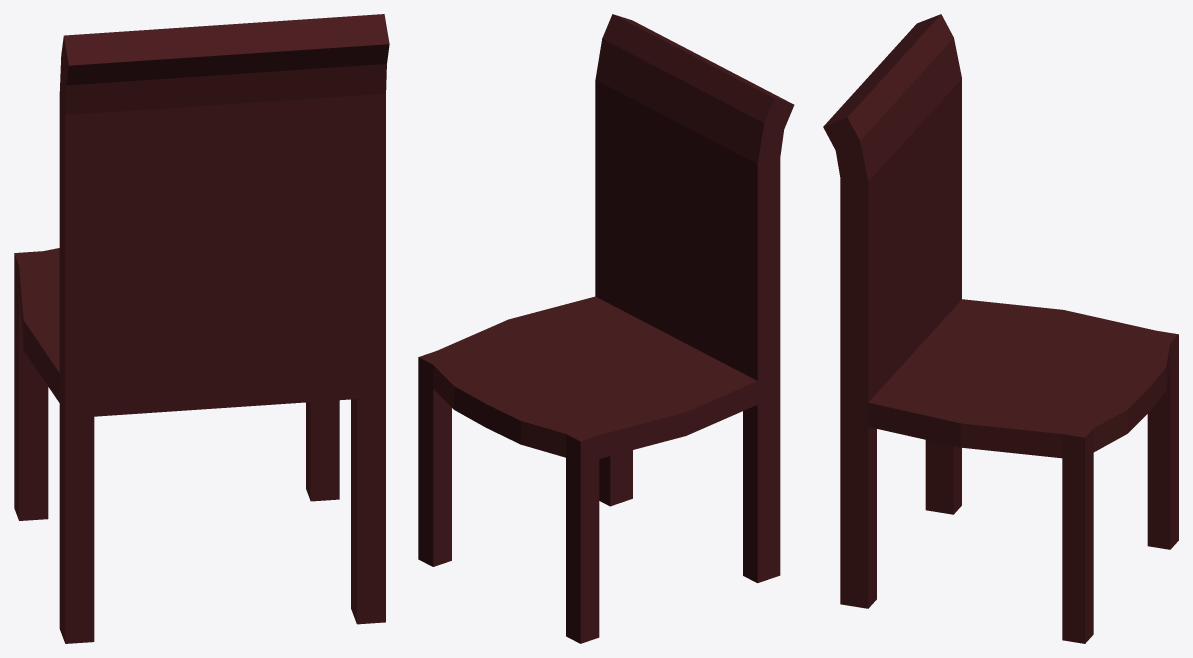
File: silla.fbx
3 views of the same model, side by side, from view 1: azimuth 30°, elevation 25°; view 2: azimuth 150°, elevation 25°; view 3: azimuth 270°, elevation 25° (orthographic). The views are drawn at different scales.
Parts seen in each view (by area): view 1: Cube.022; view 2: Cube.022; view 3: Cube.022.
Part boxes in pixels (x1,y1,x2,y2): Cube.022: (14, 14, 389, 643); Cube.022: (418, 14, 794, 643); Cube.022: (823, 14, 1178, 643).
Bounding box in the file's own units: 730 × 1138 × 752.
